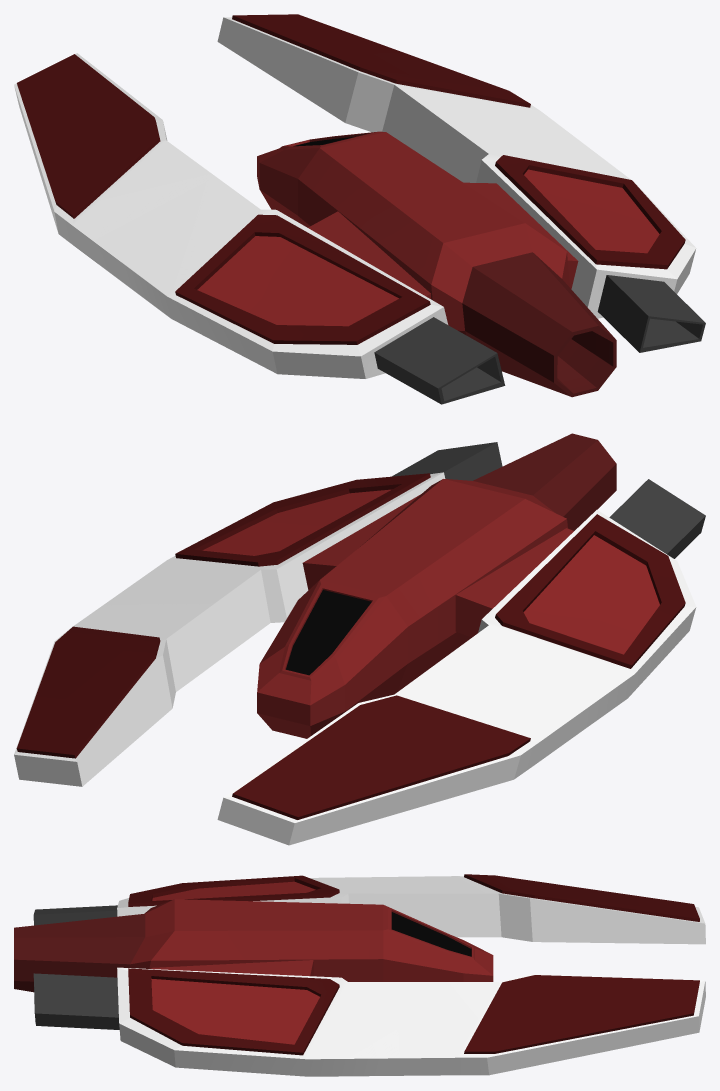
The model's file is Ship5.obj.
3 renders of one model, top to bottom at view 1: azimuth 30°, elevation 25°; view 2: azimuth 150°, elevation 25°; view 3: azimuth 270°, elevation 25°, orthographic. The views are drawn at different scales.
Visible parts, largest first — view 1: LWing, RWing, Body; view 2: LWing, RWing, Body; view 3: RWing, Body, LWing.
Part boxes in pixels (<box>): LWing: <box>14,53,505,404</box>; RWing: <box>217,14,705,352</box>; Body: <box>257,131,616,397</box>; LWing: <box>217,479,705,845</box>; RWing: <box>14,442,502,786</box>; Body: <box>257,433,616,738</box>; RWing: <box>33,960,705,1076</box>; Body: <box>14,899,493,992</box>; LWing: <box>33,874,705,944</box>.
Size of the model in its own units: 980 by 229 by 1577.
